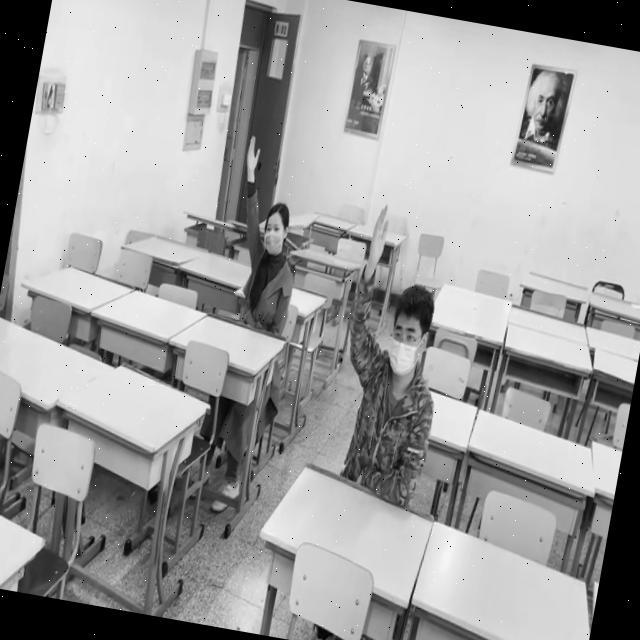study: (325, 207, 462, 487), (217, 141, 312, 329)
